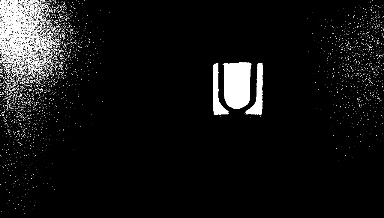U: (212, 63, 261, 113)
